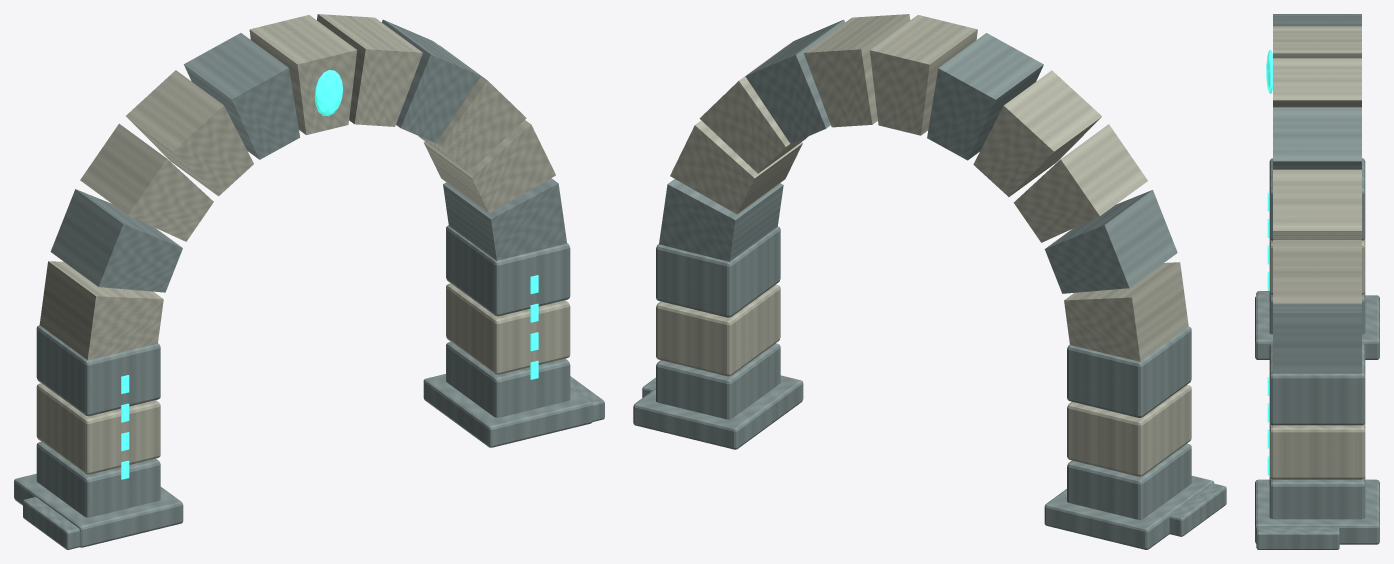
Rendered from ruins.glb.
3 renders of one model, left to right at view 1: azimuth 30°, elevation 25°; view 2: azimuth 150°, elevation 25°; view 3: azimuth 270°, elevation 25°, orthographic. The views are drawn at different scales.
Parts seen in each view (by area): view 1: ruins; view 2: ruins; view 3: ruins.
Boxes of the visible parts, x1,y1,x2,y2 form: ruins: [14, 14, 604, 549]; ruins: [633, 14, 1226, 549]; ruins: [1255, 14, 1379, 549].
Bounding box in the file's own units: 8.29 × 6.21 × 1.8.
1 material, 1 textured.
